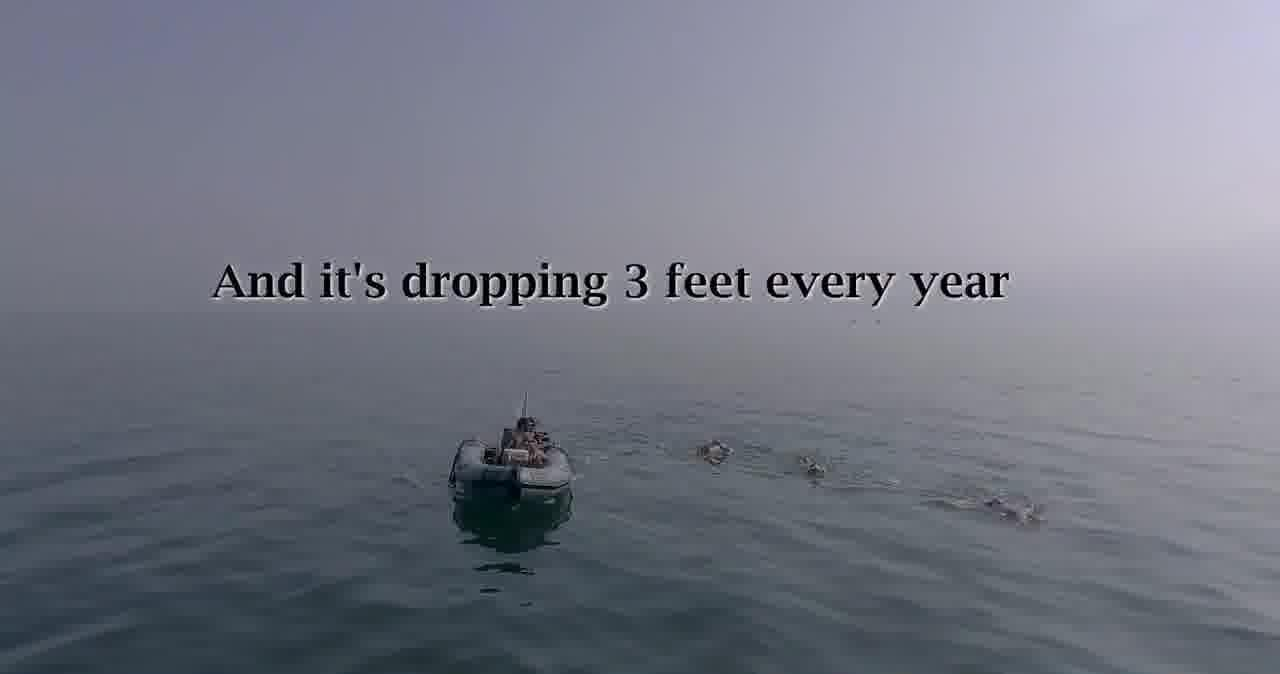swimmer: (976, 486, 1061, 536), (796, 448, 863, 494), (691, 434, 748, 483)
